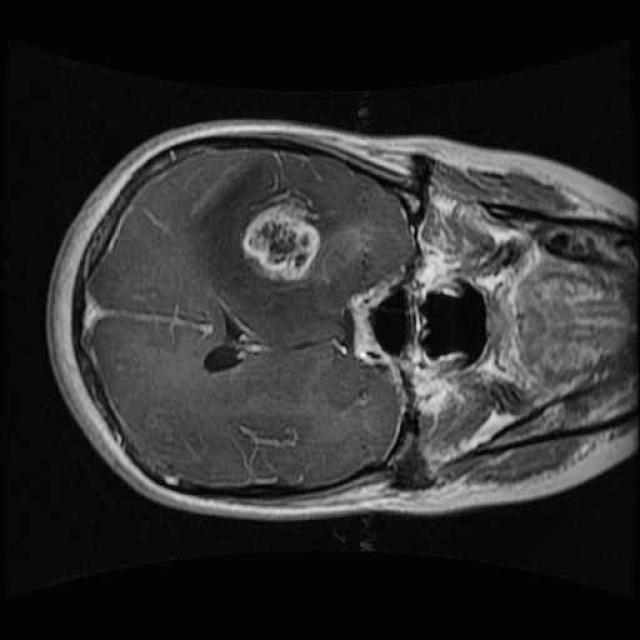Tumor: (224, 170, 348, 296)
